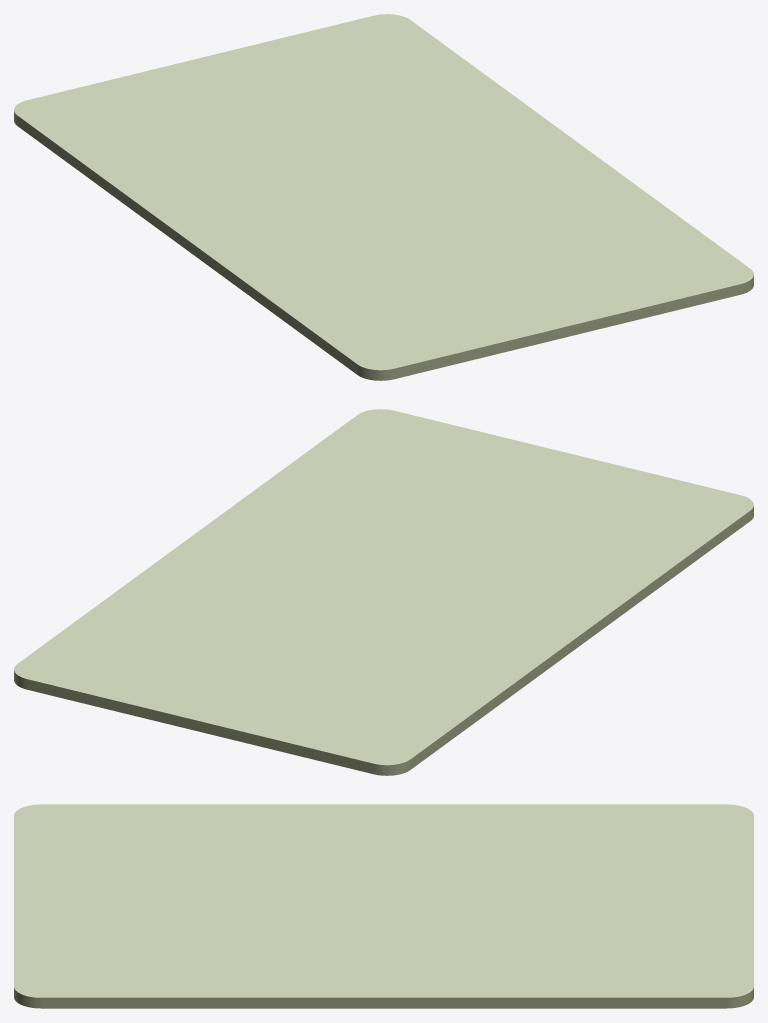
File: card.fbx
3 renders of one model, top to bottom at view 1: azimuth 30°, elevation 25°; view 2: azimuth 150°, elevation 25°; view 3: azimuth 270°, elevation 25°, orthographic.
Parts seen in each view (by area): view 1: Model; view 2: Model; view 3: Model.
Part boxes in pixels (<box>): Model: <box>14,14,753,380</box>; Model: <box>14,409,753,775</box>; Model: <box>14,804,753,1008</box>.
Size of the model in its own units: 1.16 by 0.03 by 1.88.
